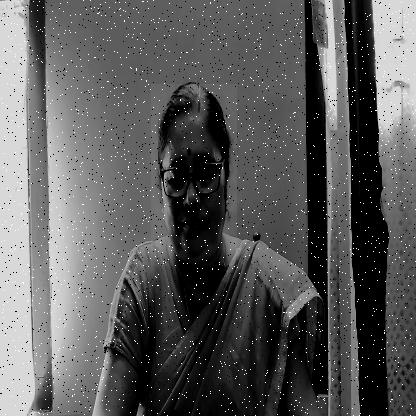Normal: (152, 84, 238, 266)
